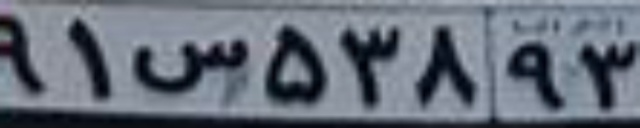1: (67, 18, 111, 98)
3: (335, 28, 399, 106), (579, 41, 633, 110)
5: (264, 23, 326, 102)
8: (409, 24, 477, 104)
9: (507, 44, 563, 107), (0, 13, 43, 95)
sin: (132, 38, 248, 90)
